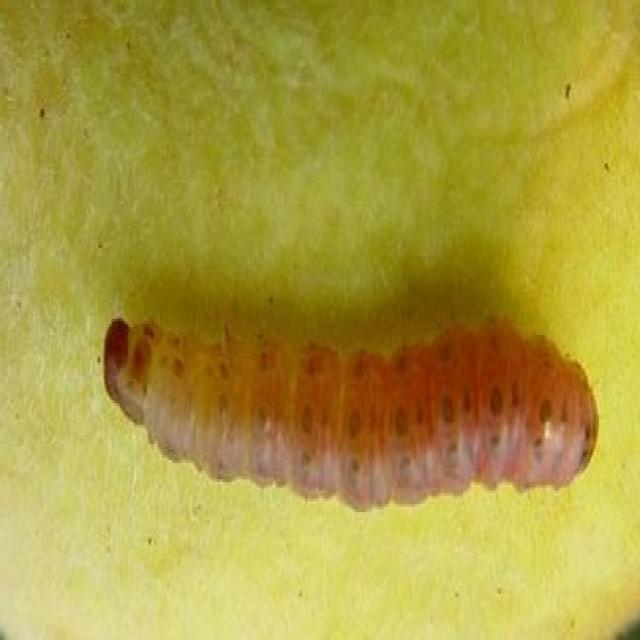peach borer: (101, 298, 599, 521)
